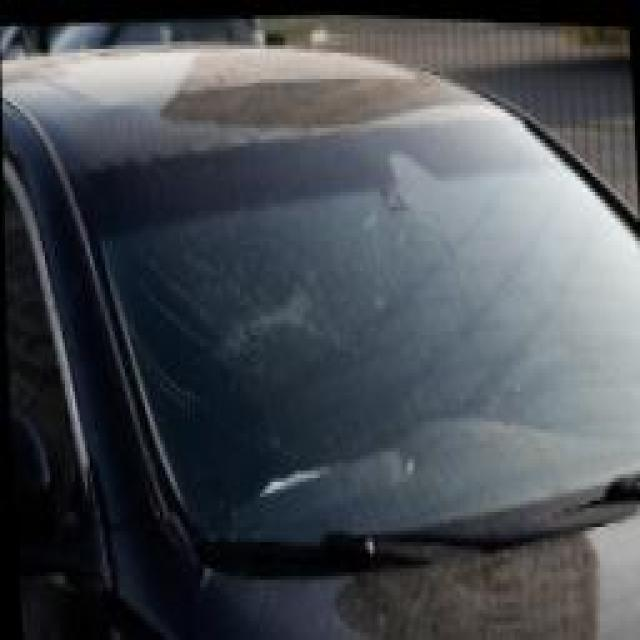Windshield: (210, 245, 365, 419)
